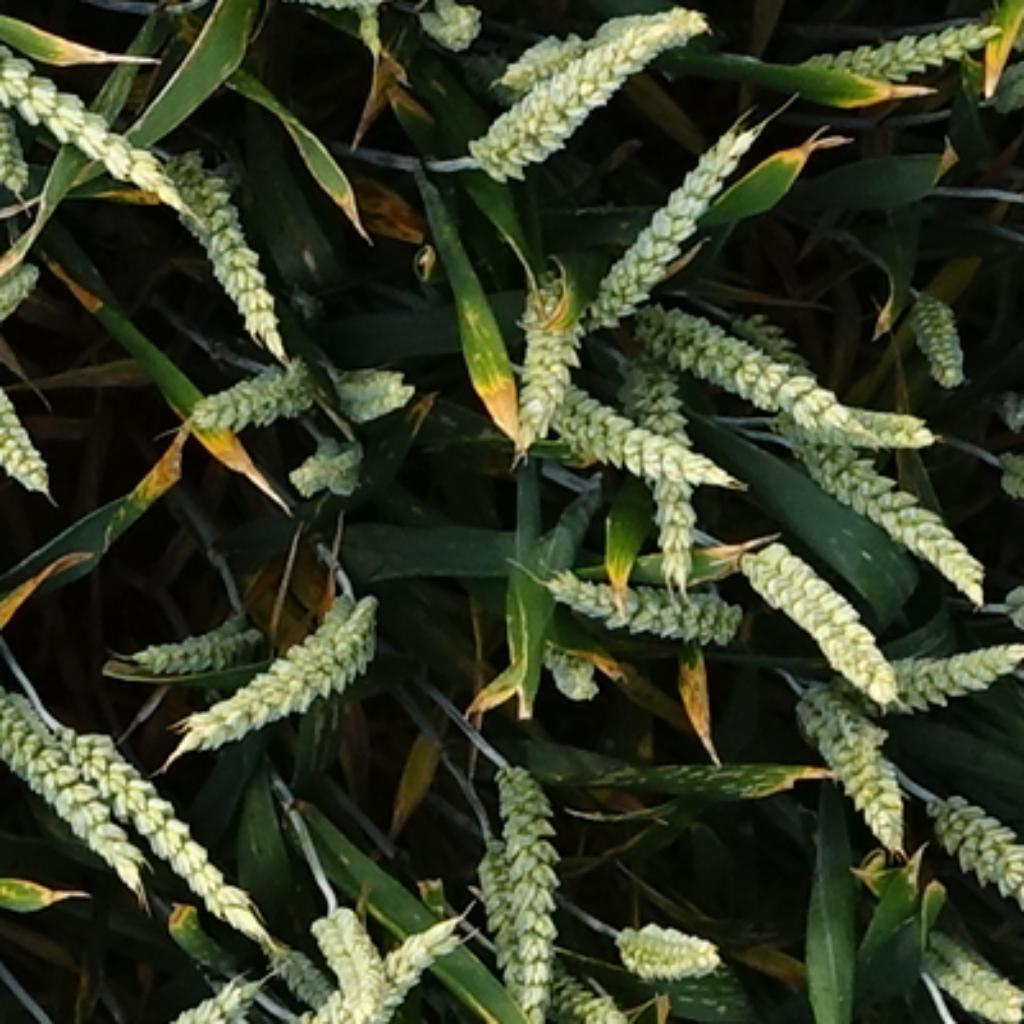0-0: (0, 665, 202, 898), (58, 716, 260, 938), (476, 0, 710, 177), (627, 281, 872, 448), (583, 107, 765, 307), (791, 430, 1003, 601), (184, 583, 396, 750), (143, 130, 302, 343), (0, 35, 178, 199), (465, 762, 578, 1016), (616, 348, 719, 609), (734, 524, 901, 683), (330, 860, 473, 1024), (780, 668, 911, 842), (532, 373, 714, 491), (727, 296, 860, 455), (532, 555, 752, 647), (811, 0, 1011, 84), (504, 261, 588, 432), (458, 821, 529, 1021), (917, 789, 1024, 910), (304, 898, 407, 1018), (184, 343, 325, 430), (872, 627, 1018, 706), (760, 396, 939, 460), (128, 601, 268, 673), (494, 15, 596, 99), (606, 908, 727, 977), (0, 371, 61, 496), (896, 279, 967, 384), (527, 960, 642, 1024), (261, 929, 337, 1006), (325, 350, 412, 417), (289, 427, 371, 491), (529, 632, 601, 696), (0, 240, 51, 327), (161, 980, 258, 1024), (0, 102, 31, 210), (412, 0, 481, 46)
